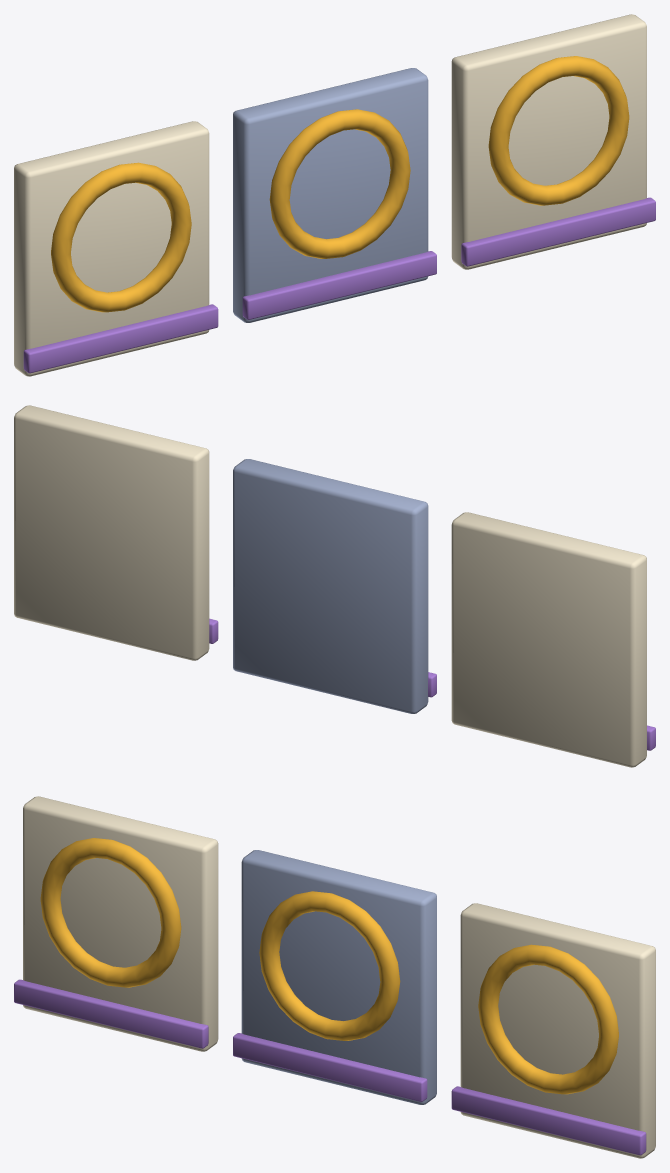
File: r024_castle_wall_modules_wall_modules.glb
3 views of the same model, one above another, from view 1: azimuth 30°, elevation 25°; view 2: azimuth 150°, elevation 25°; view 3: azimuth 330°, elevation 25° (orthographic).
Visible parts, largest first — view 1: r024_castle_wall_modules_wall_modules.001; view 2: r024_castle_wall_modules_wall_modules.001; view 3: r024_castle_wall_modules_wall_modules.001.
Boxes of the visible parts, x1,y1,x2,y2 form: r024_castle_wall_modules_wall_modules.001: [14, 14, 655, 376]; r024_castle_wall_modules_wall_modules.001: [14, 405, 655, 767]; r024_castle_wall_modules_wall_modules.001: [14, 796, 655, 1158].
Size of the model in its own units: 10.9 by 3.4 by 0.665.
